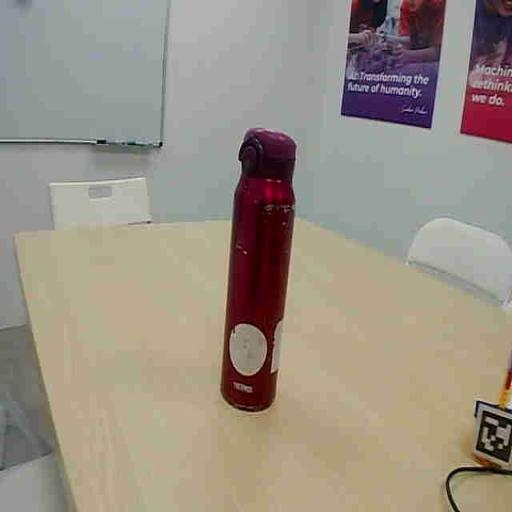bottle: (220, 128, 299, 415)
